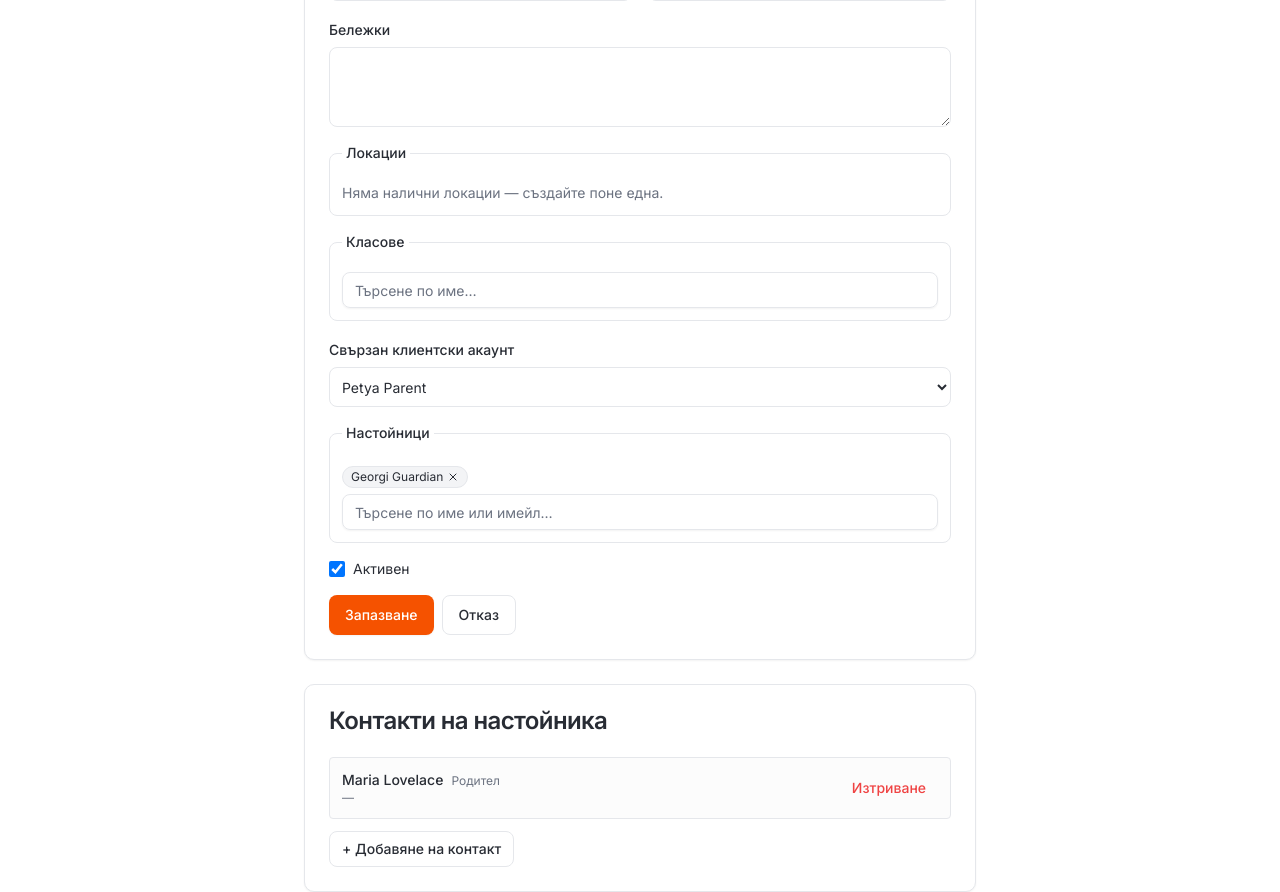
Scenario: EditTraineePage — customer linking (TKT-0009) › confirms a deleted contact with a toast naming the contact
(page scrolled)
Expected: the text "Maria Lovelace" is shown, left=342, top=771, right=443, bottom=788
Click the button "Изтриване": (889, 788) left=840, top=770, right=938, bottom=806
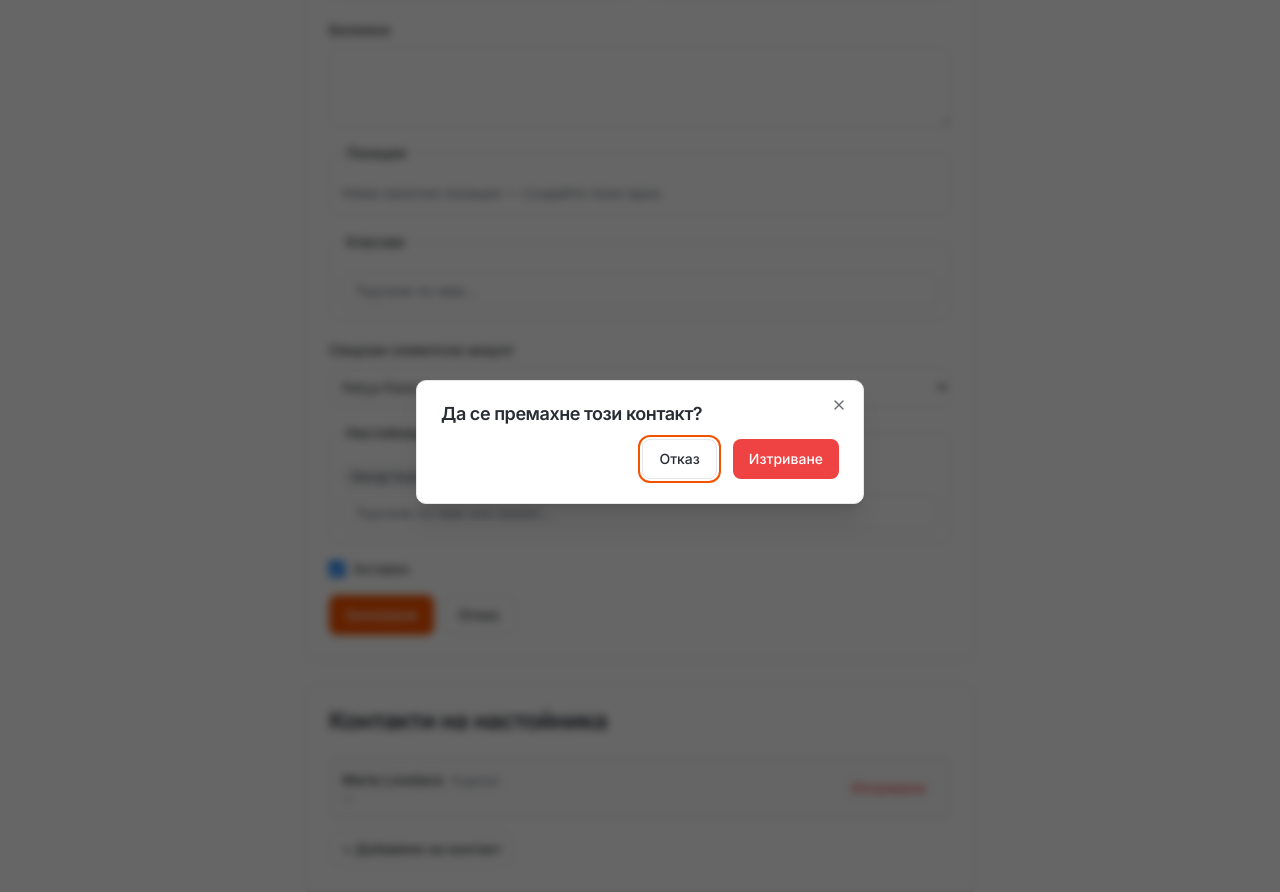
Click the button "Изтриване": (786, 459) left=733, top=439, right=839, bottom=479
(page scrolled)
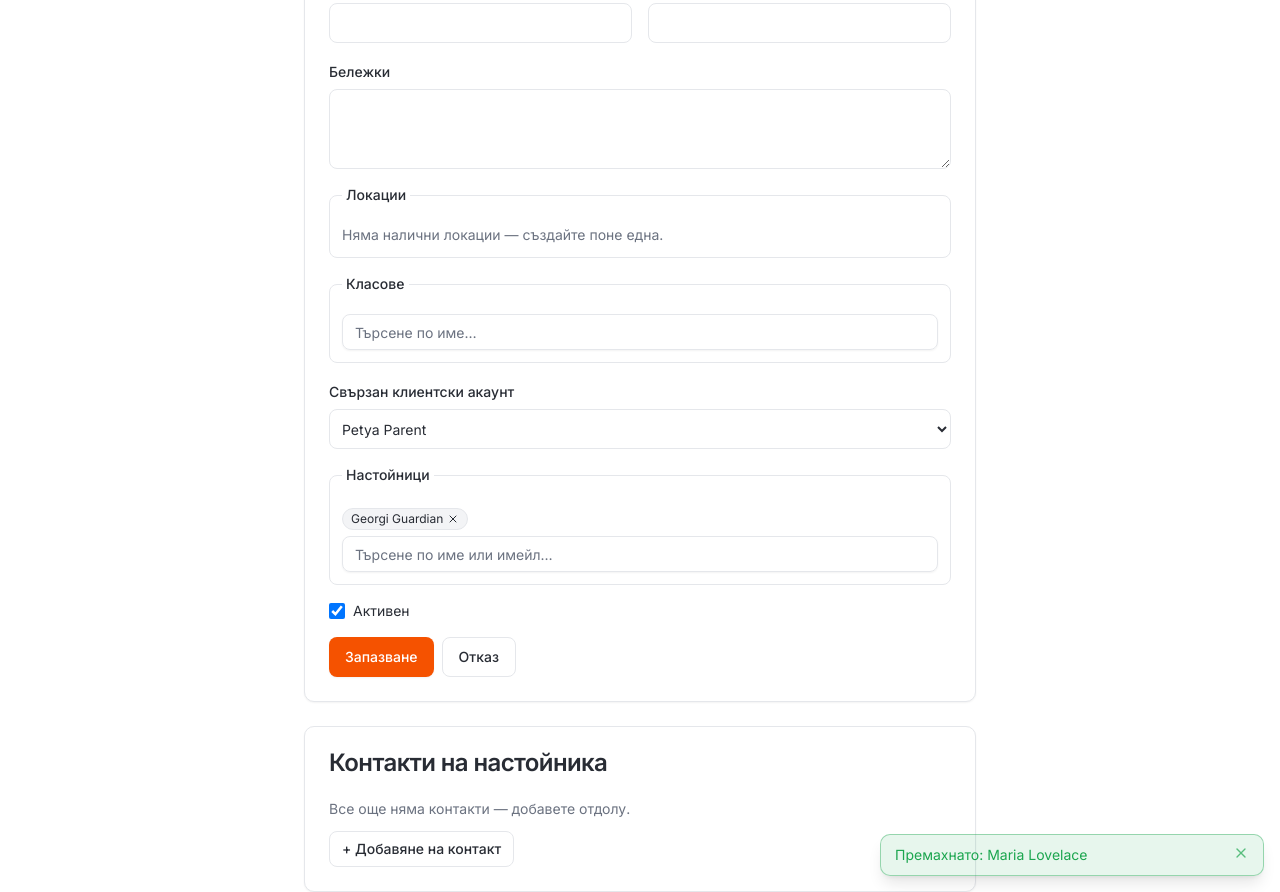
Now the text "Премахнато: Maria Lovelace" is shown, box left=895, top=846, right=1088, bottom=863
